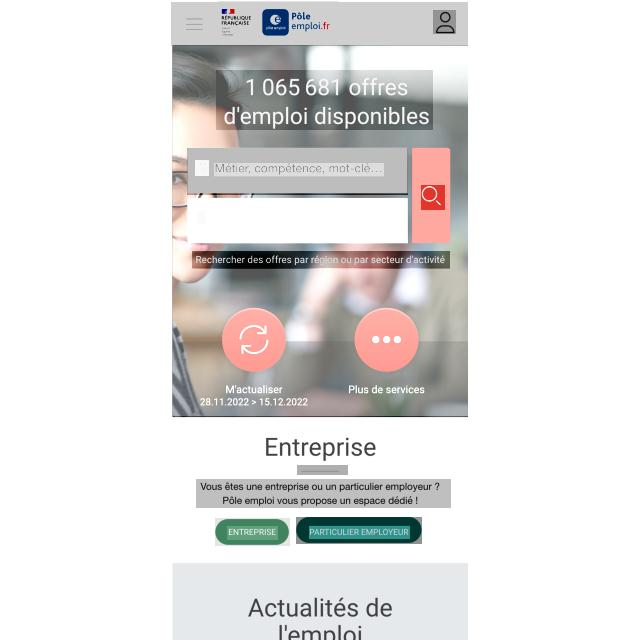CheckBox: (296, 518, 422, 546), (215, 518, 290, 546)
CheckedTextView: (187, 148, 408, 195), (188, 199, 408, 244)
Input field: (196, 479, 451, 508), (192, 252, 450, 270)
accordion: (297, 465, 348, 475)
bag: (171, 2, 468, 46)
card: (173, 46, 470, 416)
carousel: (421, 185, 445, 210), (433, 10, 456, 34), (195, 160, 209, 176), (197, 211, 206, 224)
data feed: (309, 526, 410, 539), (227, 526, 278, 540)
date picker: (218, 1, 338, 44)
decoration: (184, 16, 207, 34)
footer: (214, 164, 384, 178), (214, 214, 281, 227)
image: (216, 70, 433, 130)
